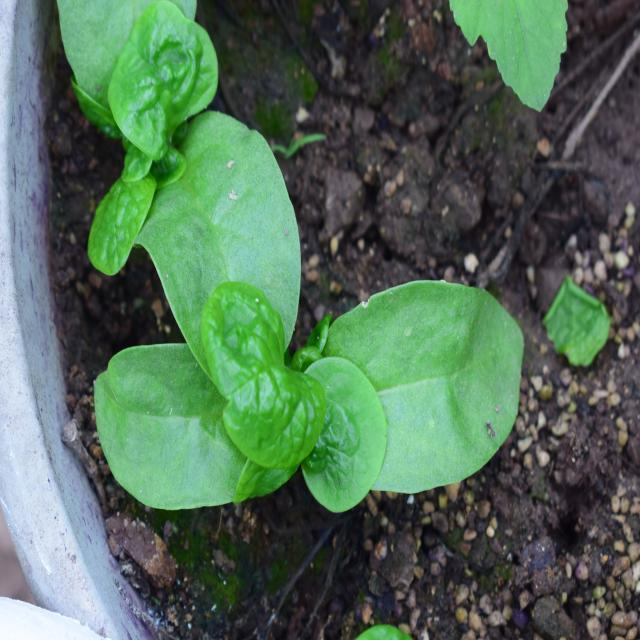Ceylon spinach: (117, 158, 504, 536)
